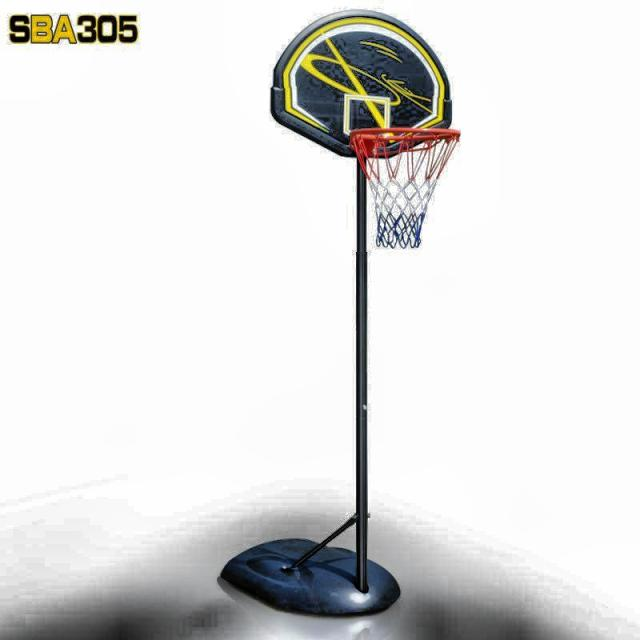rim: (350, 128, 462, 248)
